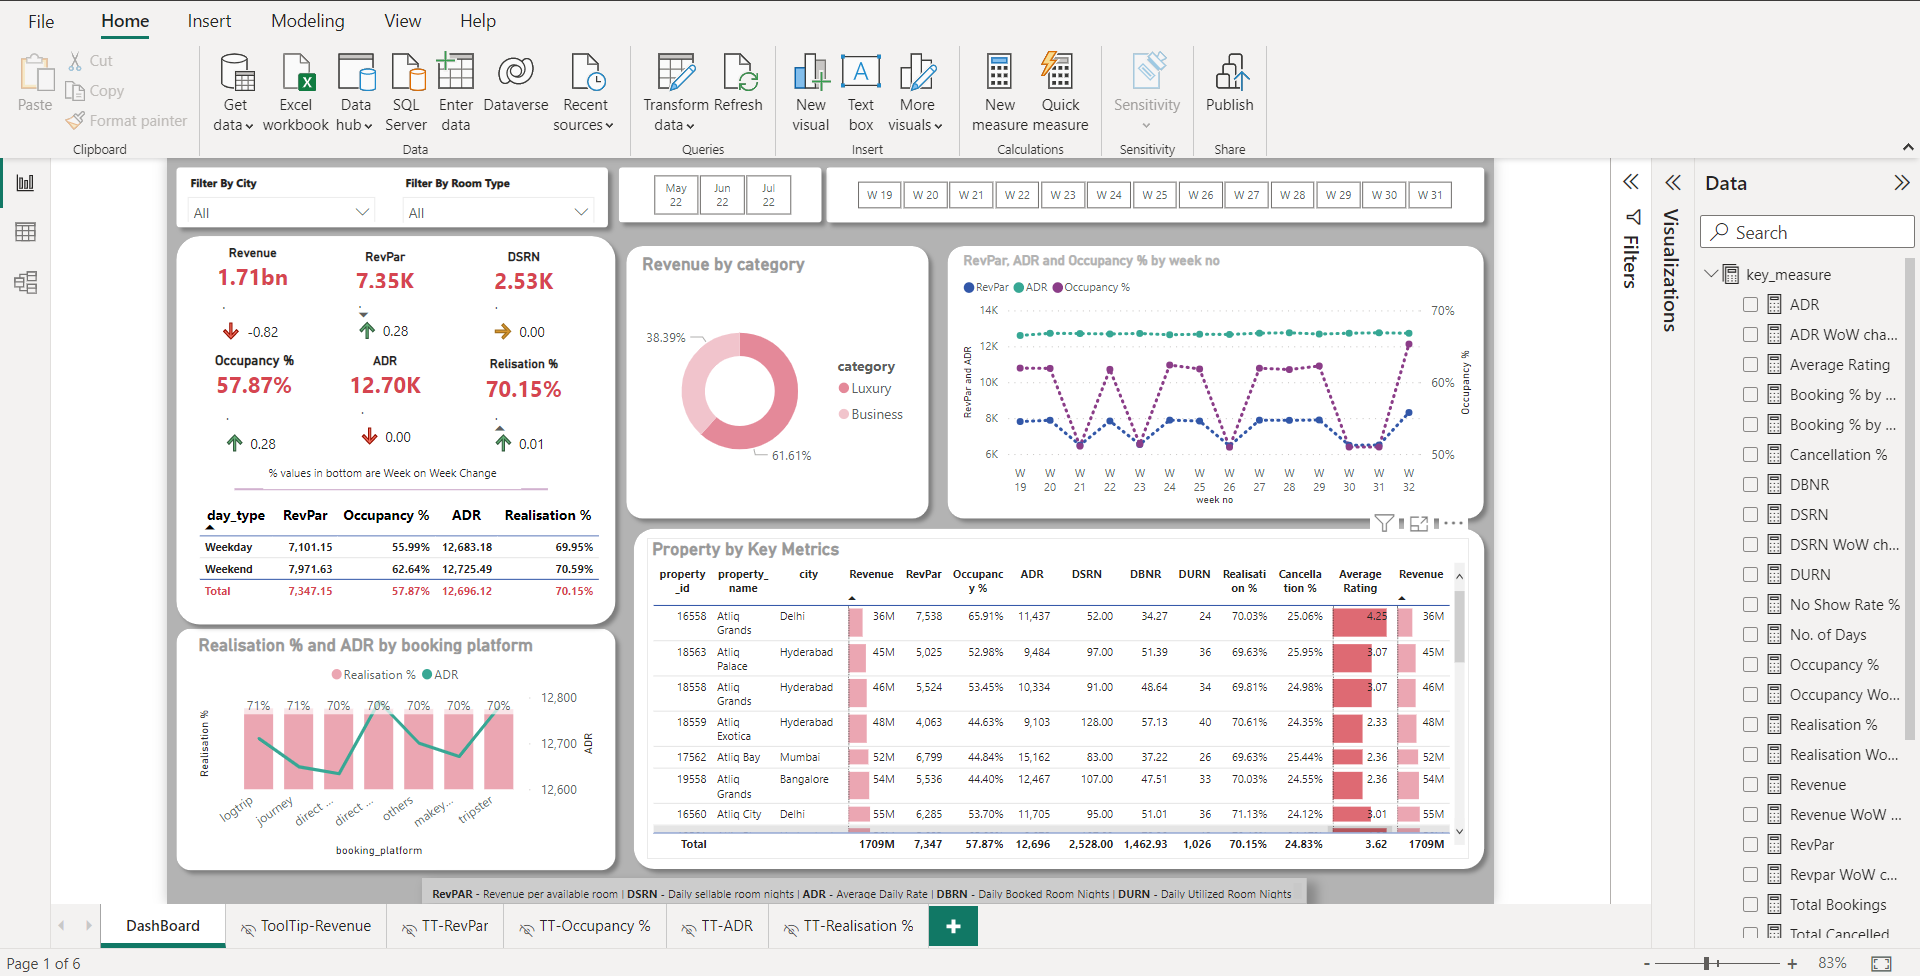

What the dashboard file says about the page in this screenshot:
{"tool":"powerbi","page":{"name":"DashBoard","canvas":[1280,720],"ordinal":0},"visuals":[{"type":"shape","box":[434.2,76,309.9,281],"z":0},{"type":"shape","box":[744.1,76,535.5,281],"z":1000},{"type":"shape","box":[627.1,0,652.5,71.2],"z":2000},{"type":"shape","box":[426.9,0,213.5,71],"z":3000},{"type":"shape","box":[0,445,441.4,250.9],"z":4000},{"type":"shape","box":[0,66.3,441.4,393.2],"z":5000},{"type":"tableEx","fields":{"Values":["key_measure.Occupancy WoW change %"]},"box":[45.8,234,77.2,60.3],"z":6000},{"type":"shape","box":[0,0,434.2,76],"z":7000},{"type":"slicer","fields":{"Values":["dim_hotels.city"]},"box":[9.6,12.1,201.4,49.4],"z":8000},{"type":"slicer","fields":{"Values":["dim_rooms.room_class"]},"box":[217.1,12.1,205,50],"z":9000},{"type":"card","title":"Revenue","fields":{"Values":["key_measure.Revenue"]},"box":[27.7,84.2,110,50],"z":10000},{"type":"card","title":"RevPar","fields":{"Values":["key_measure.RevPar"]},"box":[155.6,88,109.7,49.4],"z":11000},{"type":"card","title":"DSRN","fields":{"Values":["key_measure.DSRN"]},"box":[289.4,88,109.7,49.4],"z":12000},{"type":"tableEx","fields":{"Values":["key_measure.DSRN WoW change %"]},"box":[305.1,126.6,79.6,57.9],"z":13000},{"type":"tableEx","fields":{"Values":["key_measure.Revpar WoW change %"]},"box":[173.7,125.4,83.2,62.7],"z":14000},{"type":"card","title":"Relisation %","fields":{"Values":["key_measure.Realisation %"]},"box":[289.4,191.8,109.7,49.4],"z":15000},{"type":"tableEx","fields":{"Values":["key_measure.ADR WoW change %"]},"box":[176.1,227.9,80.8,60.3],"z":16000},{"type":"tableEx","fields":{"Values":["key_measure.Realisation WoW change %"]},"box":[305.1,234,79.6,60.3],"z":17000},{"type":"card","title":"ADR","fields":{"Values":["key_measure.ADR"]},"box":[155.6,188.1,109.7,49.4],"z":18000},{"type":"card","title":"Occupancy %","fields":{"Values":["key_measure.Occupancy %"]},"box":[27.7,188.1,113.4,49.4],"z":19000},{"type":"tableEx","fields":{"Values":["dim_date.day_type","key_measure.RevPar","key_measure.Occupancy %","key_measure.ADR","key_measure.Realisation %"]},"box":[25.3,326.8,396.8,106.1],"z":20000},{"type":"shape","box":[65.1,312.4,302.7,14.5],"z":21000},{"type":"textbox","box":[92.9,288.2,248.4,31.4],"z":22000},{"type":"lineStackedColumnComboChart","title":"Realisation % and ADR by booking platform","fields":{"Y":["key_measure.Realisation %"],"Y2":["key_measure.ADR"],"Category":["fact_bookings.booking_platform"]},"box":[25.3,459.5,393.2,219.5],"z":23000},{"type":"slicer","fields":{"Values":["dim_date.mmm yy"]},"box":[443.8,9.6,182.1,51.9],"z":24000},{"type":"slicer","fields":{"Values":["dim_date.week no"]},"box":[640.4,15.7,623.5,39.8],"z":25000},{"type":"shape","box":[441.4,348.5,838.2,346.1],"z":26000},{"type":"tableEx","title":"Property by Key Metrics","fields":{"Values":["dim_hotels.property_id","dim_hotels.property_name","dim_hotels.city","key_measure.Revenue","key_measure.RevPar","key_measure.Occupancy %","key_measure.ADR","key_measure.DSRN","key_measure.DBNR","key_measure.DURN","key_measure.Realisation %","key_measure.Cancellation %"]},"box":[463.1,366.6,793.6,309.9],"z":27000},{"type":"donutChart","title":"Revenue by category","fields":{"Y":["key_measure.Revenue"],"Category":["dim_hotels.category"]},"box":[453.5,91.7,272.6,247.2],"z":28000},{"type":"lineChart","fields":{"Category":["dim_date.mmm yy.Variation.Date Hierarchy.Month","dim_date.week no"],"Y":["key_measure.RevPar","key_measure.ADR"],"Y2":["key_measure.Occupancy %"]},"box":[763.4,91.7,500.5,248.4],"z":29000},{"type":"textbox","box":[246,694.7,853.9,25],"z":30000},{"type":"tableEx","fields":{"Values":["key_measure.Revenue WoW change %"]},"box":[42,127,75,59.2],"z":31000}]}

Visuals, with their boxes on the page's 1280x720 design canvas (x1, y1, x2, y2). These are canvas units, not pixel positions in the 1920x976 screenshot, which may show the page scaled, cropped or inside an application window:
shape: rect(434, 76, 744, 357)
shape: rect(744, 76, 1280, 357)
shape: rect(627, 0, 1280, 71)
shape: rect(427, 0, 640, 71)
shape: rect(0, 445, 441, 696)
shape: rect(0, 66, 441, 460)
tableEx - key_measure.Occupancy WoW change %: rect(46, 234, 123, 294)
shape: rect(0, 0, 434, 76)
slicer - dim_hotels.city: rect(10, 12, 211, 62)
slicer - dim_rooms.room_class: rect(217, 12, 422, 62)
"Revenue" card: rect(28, 84, 138, 134)
"RevPar" card: rect(156, 88, 265, 137)
"DSRN" card: rect(289, 88, 399, 137)
tableEx - key_measure.DSRN WoW change %: rect(305, 127, 385, 184)
tableEx - key_measure.Revpar WoW change %: rect(174, 125, 257, 188)
"Relisation %" card: rect(289, 192, 399, 241)
tableEx - key_measure.ADR WoW change %: rect(176, 228, 257, 288)
tableEx - key_measure.Realisation WoW change %: rect(305, 234, 385, 294)
"ADR" card: rect(156, 188, 265, 238)
"Occupancy %" card: rect(28, 188, 141, 238)
tableEx - dim_date.day_type x key_measure.RevPar: rect(25, 327, 422, 433)
shape: rect(65, 312, 368, 327)
textbox: rect(93, 288, 341, 320)
"Realisation % and ADR by booking platform" lineStackedColumnComboChart: rect(25, 460, 418, 679)
slicer - dim_date.mmm yy: rect(444, 10, 626, 62)
slicer - dim_date.week no: rect(640, 16, 1264, 56)
shape: rect(441, 348, 1280, 695)
"Property by Key Metrics" tableEx: rect(463, 367, 1257, 676)
"Revenue by category" donutChart: rect(454, 92, 726, 339)
lineChart - dim_date.mmm yy.Variation.Date Hierarchy.Month x dim_date.week no: rect(763, 92, 1264, 340)
textbox: rect(246, 695, 1100, 720)
tableEx - key_measure.Revenue WoW change %: rect(42, 127, 117, 186)
